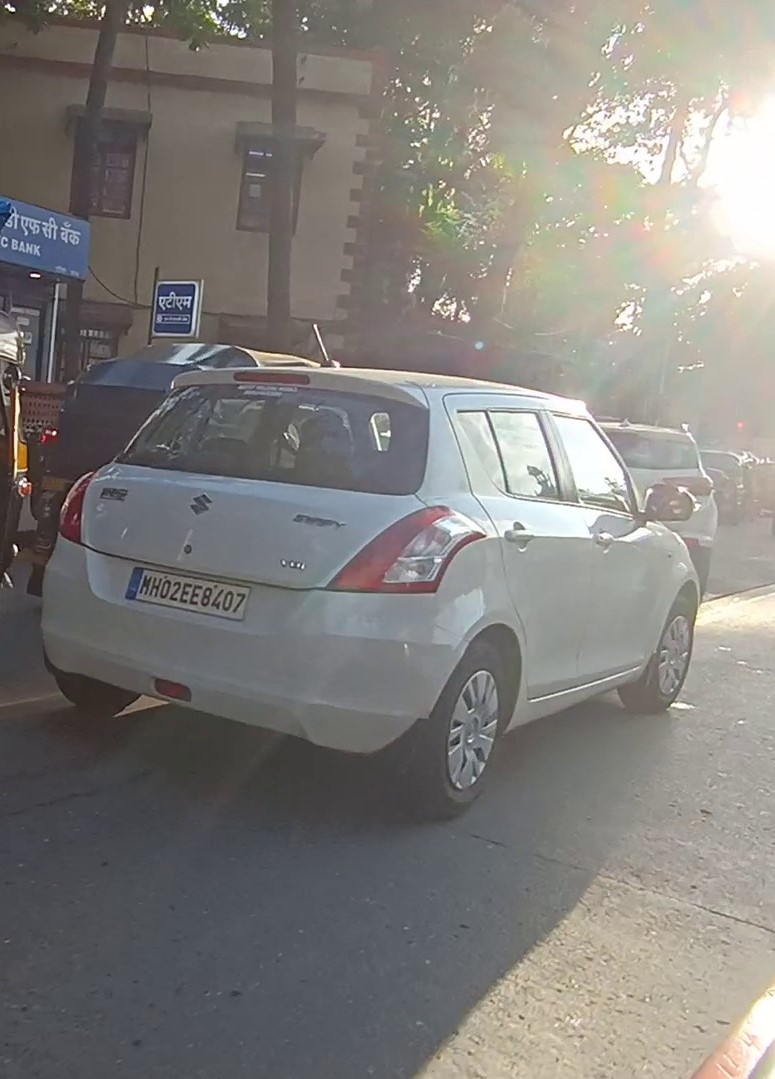MH02EE8407: (127, 569, 251, 620)
